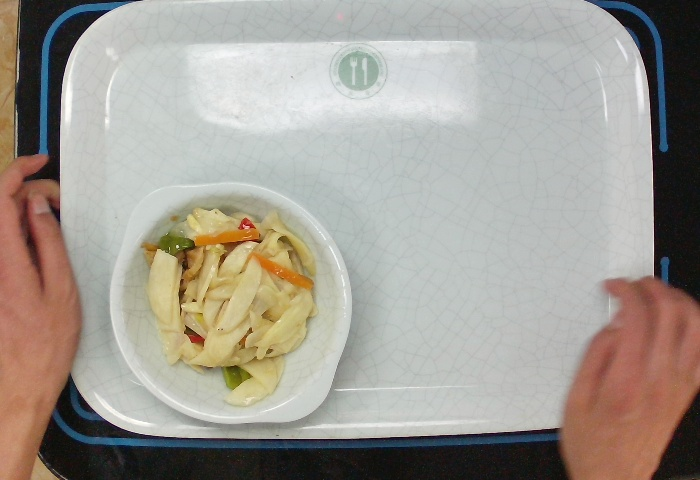JYsf-Shuang_Er_Wan: (107, 180, 354, 425)
